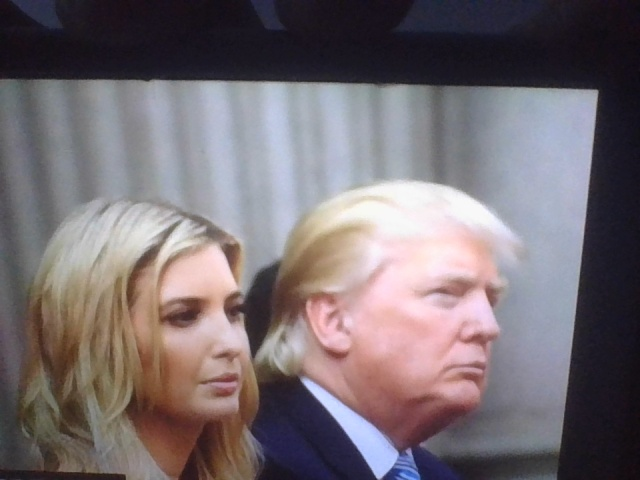fake: (314, 142, 530, 448), (94, 191, 272, 444)
